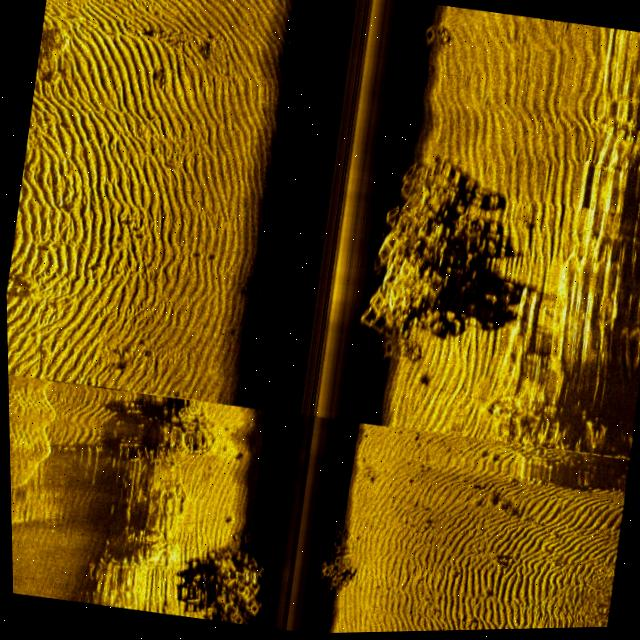artificial reef: (336, 147, 491, 387), (201, 546, 267, 628), (304, 517, 356, 607), (413, 13, 455, 67)
